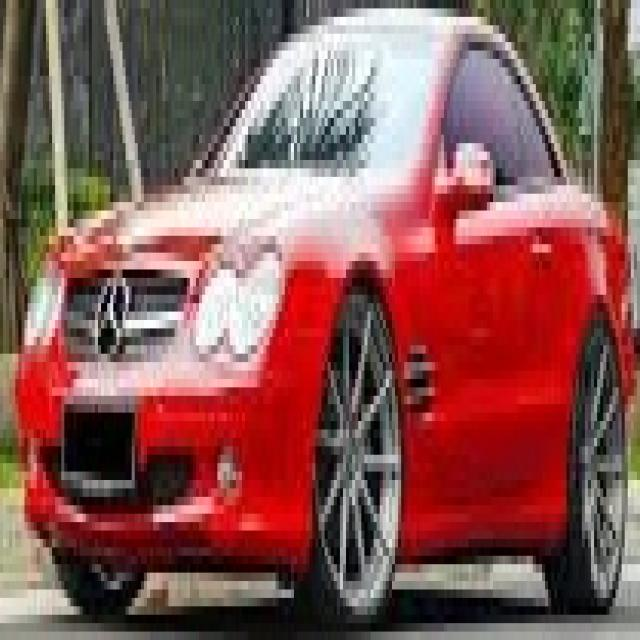red: (16, 9, 640, 584)
